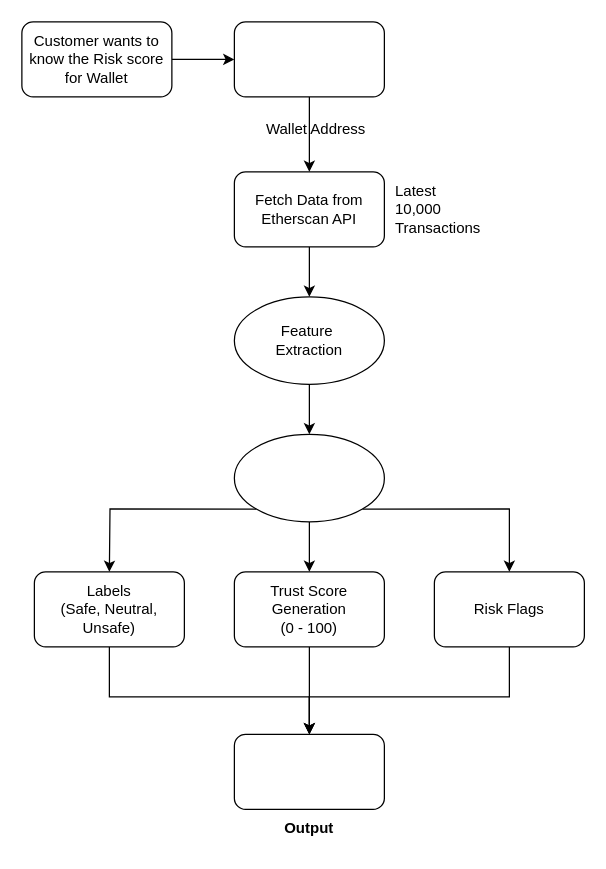
Some shapes in this 606 by 869 pixel diagram are drawn without their labels. Here are the shapes that lost their labels. From the top down, the box of each, then its label:
(233, 21, 384, 97): Calls WIRE Wallet API
(233, 433, 384, 522): Machine Learning Model
(233, 733, 384, 809): JSON Output back to Customer
